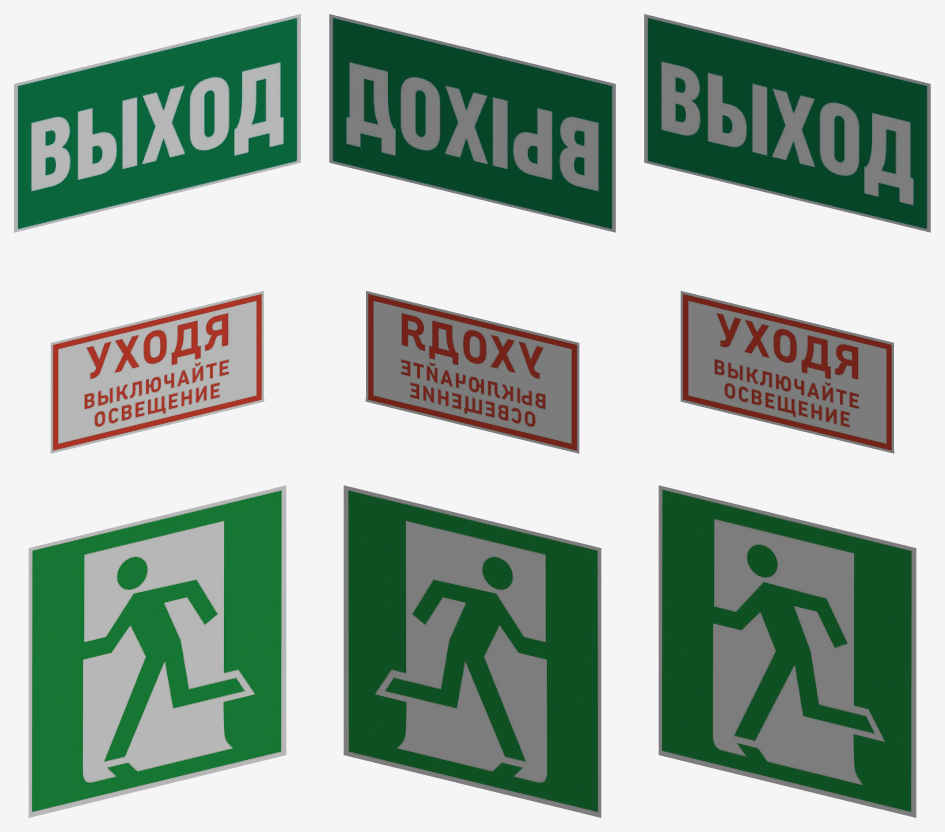
Rendered from DoorPlakat.fbx.
3 views of the same model, side by side, from view 1: azimuth 30°, elevation 25°; view 2: azimuth 150°, elevation 25°; view 3: azimuth 330°, elevation 25° (orthographic).
Visible parts, largest first — view 1: Plane.009; view 2: Plane.009; view 3: Plane.009.
Boxes of the visible parts, x1,y1,x2,y2 form: Plane.009: (14, 14, 300, 817); Plane.009: (329, 14, 615, 817); Plane.009: (644, 14, 930, 817).
Size of the model in its own units: 0.3258 by 0.8017 by 2.23e-07.
